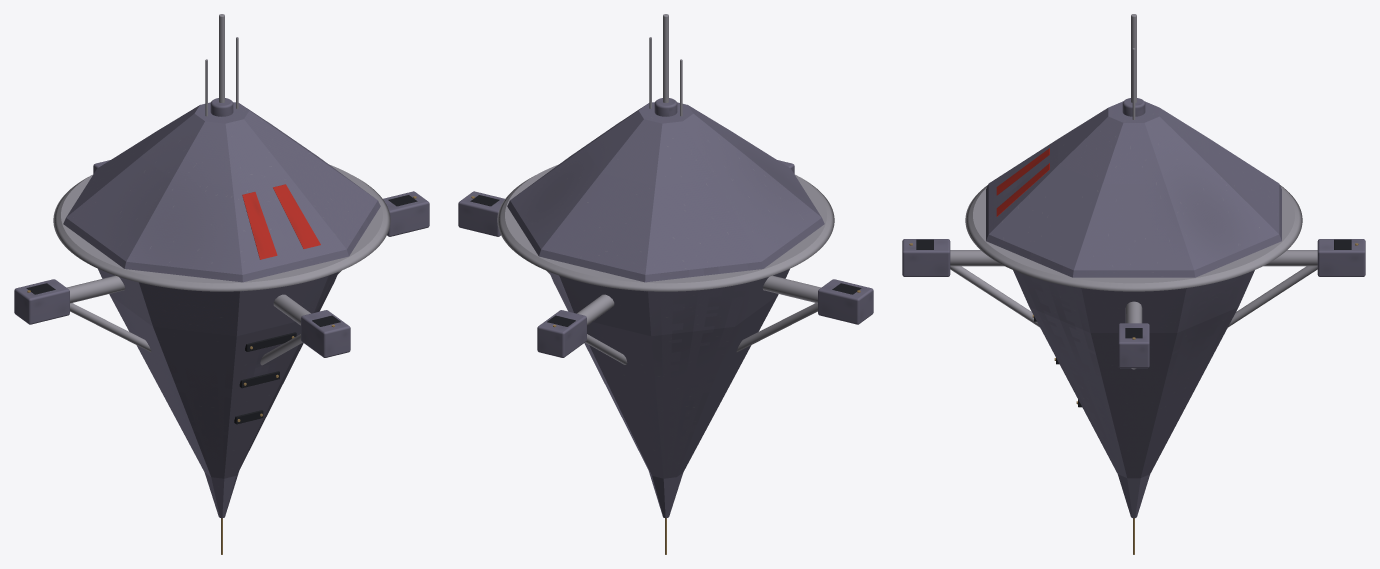
The picture shows the model from 3 angles, left to right: view 1: azimuth 30°, elevation 25°; view 2: azimuth 150°, elevation 25°; view 3: azimuth 270°, elevation 25°; orthographic projection.
Parts seen in each view (by area): view 1: Space Dock pyramidal upper hull, Space Dock lower tapered hull, Space Dock equatorial rim, Space Dock berth pod 2, Space Dock berth pod 3, Space Dock berth pod 0, Space Dock roof red band 1, Space Dock roof red band -1, Space Dock radial arm 2, Space Dock diagonal brace 2, Space Dock radial arm 3, Space Dock main antenna; view 2: Space Dock pyramidal upper hull, Space Dock lower tapered hull, Space Dock equatorial rim, Space Dock berth pod 2, Space Dock berth pod 1, Space Dock berth pod 0, Space Dock radial arm 2, Space Dock diagonal brace 2, Space Dock radial arm 1, Space Dock main antenna; view 3: Space Dock pyramidal upper hull, Space Dock lower tapered hull, Space Dock equatorial rim, Space Dock berth pod 1, Space Dock berth pod 3, Space Dock berth pod 0, Space Dock diagonal brace 1, Space Dock diagonal brace 3, Space Dock radial arm 1, Space Dock radial arm 3.
Part boxes in pixels (left/top/right/bottom): Space Dock pyramidal upper hull: left=63, top=102, right=380, bottom=291; Space Dock lower tapered hull: left=98, top=269, right=338, bottom=518; Space Dock equatorial rim: left=53, top=164, right=390, bottom=291; Space Dock berth pod 2: left=14, top=279, right=69, bottom=324; Space Dock berth pod 3: left=301, top=310, right=350, bottom=357; Space Dock berth pod 0: left=383, top=191, right=429, bottom=236; Space Dock roof red band 1: left=273, top=184, right=320, bottom=248; Space Dock roof red band -1: left=242, top=192, right=277, bottom=259; Space Dock radial arm 2: left=66, top=275, right=125, bottom=303; Space Dock diagonal brace 2: left=70, top=303, right=151, bottom=351; Space Dock radial arm 3: left=273, top=294, right=310, bottom=325; Space Dock main antenna: left=219, top=14, right=224, bottom=102; Space Dock pyramidal upper hull: left=507, top=102, right=824, bottom=291; Space Dock lower tapered hull: left=549, top=269, right=789, bottom=518; Space Dock equatorial rim: left=497, top=164, right=834, bottom=291; Space Dock berth pod 2: left=818, top=279, right=873, bottom=324; Space Dock berth pod 1: left=537, top=310, right=586, bottom=357; Space Dock berth pod 0: left=458, top=191, right=504, bottom=236; Space Dock radial arm 2: left=762, top=275, right=821, bottom=303; Space Dock diagonal brace 2: left=736, top=303, right=817, bottom=351; Space Dock radial arm 1: left=577, top=294, right=614, bottom=325; Space Dock main antenna: left=663, top=14, right=668, bottom=102; Space Dock pyramidal upper hull: left=986, top=101, right=1281, bottom=277; Space Dock lower tapered hull: left=1013, top=270, right=1254, bottom=518; Space Dock equatorial rim: left=965, top=185, right=1302, bottom=291; Space Dock berth pod 1: left=1317, top=239, right=1365, bottom=276; Space Dock berth pod 3: left=902, top=239, right=950, bottom=276; Space Dock berth pod 0: left=1118, top=323, right=1149, bottom=368; Space Dock diagonal brace 1: left=1228, top=266, right=1317, bottom=327; Space Dock diagonal brace 3: left=950, top=266, right=1039, bottom=327; Space Dock radial arm 1: left=1263, top=250, right=1317, bottom=266; Space Dock radial arm 3: left=950, top=250, right=1004, bottom=266.
Bounding box in the file's own units: 3.68 × 4.73 × 3.68.
Materials: 5 (2 with a texture image).
